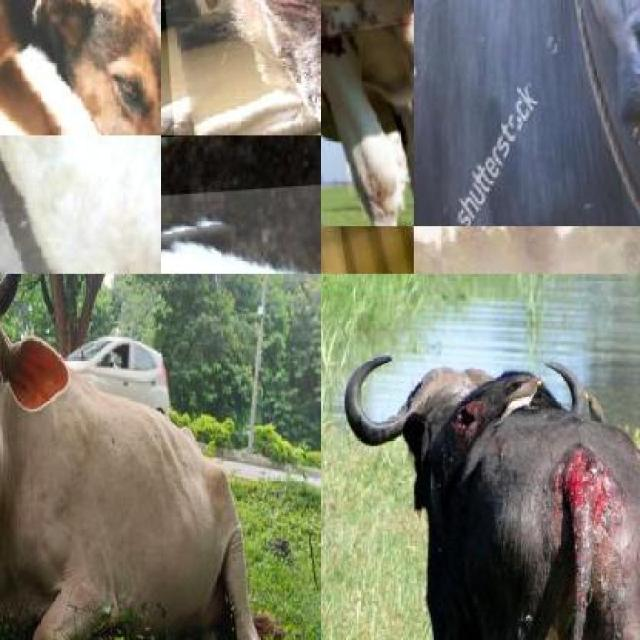buffalo: (331, 341, 640, 640), (414, 0, 640, 226)
cat: (160, 161, 320, 274)
cow: (0, 274, 280, 640), (0, 135, 160, 274)
dog: (0, 0, 160, 135), (160, 0, 320, 135)
injured: (532, 436, 620, 584), (428, 387, 488, 490)
